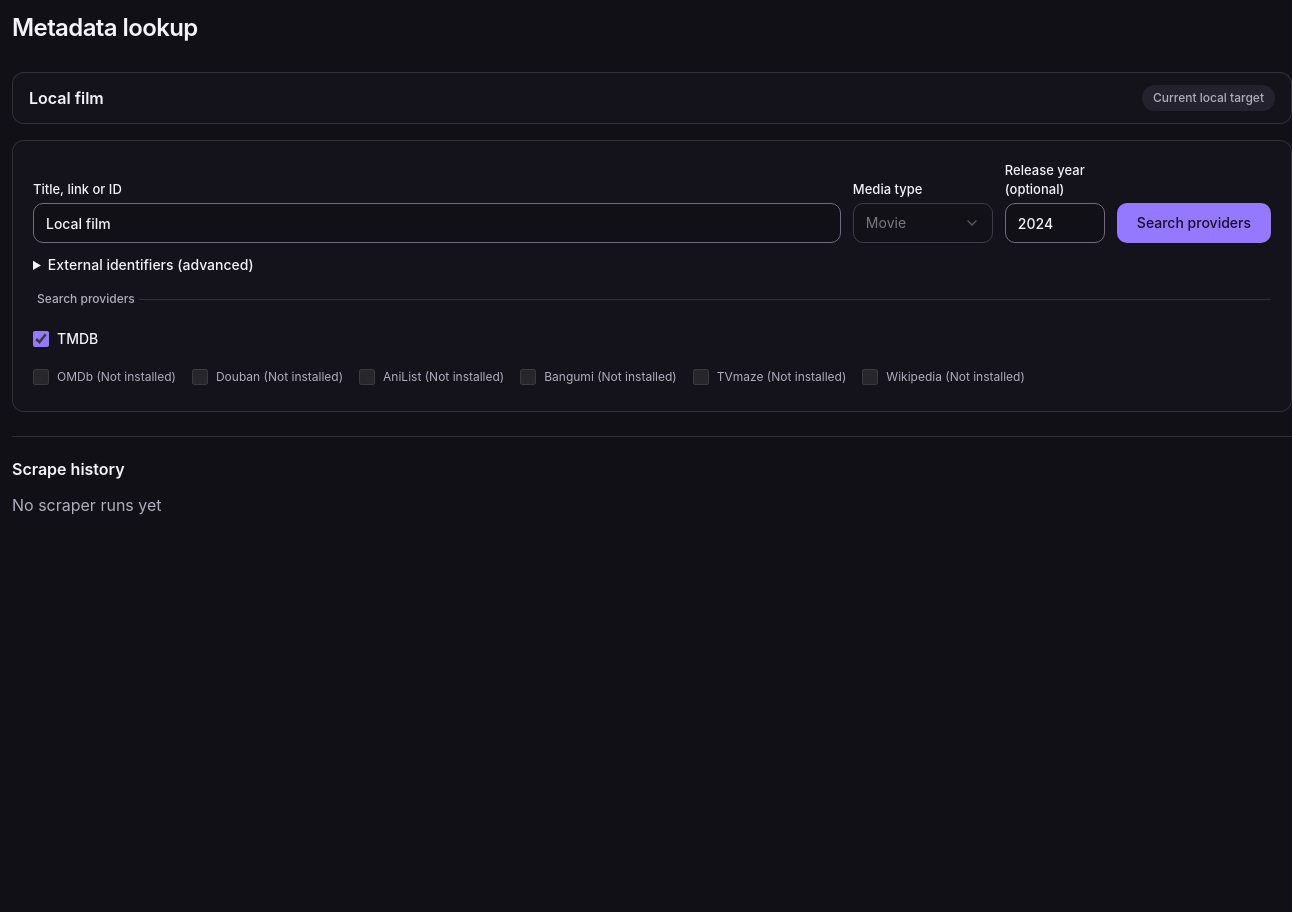
shows candidate identity and original title before any metadata selection or write
The image size is (1292, 912).
Click the button "Search providers".
click(1194, 223)  # box [1117,203,1271,243]
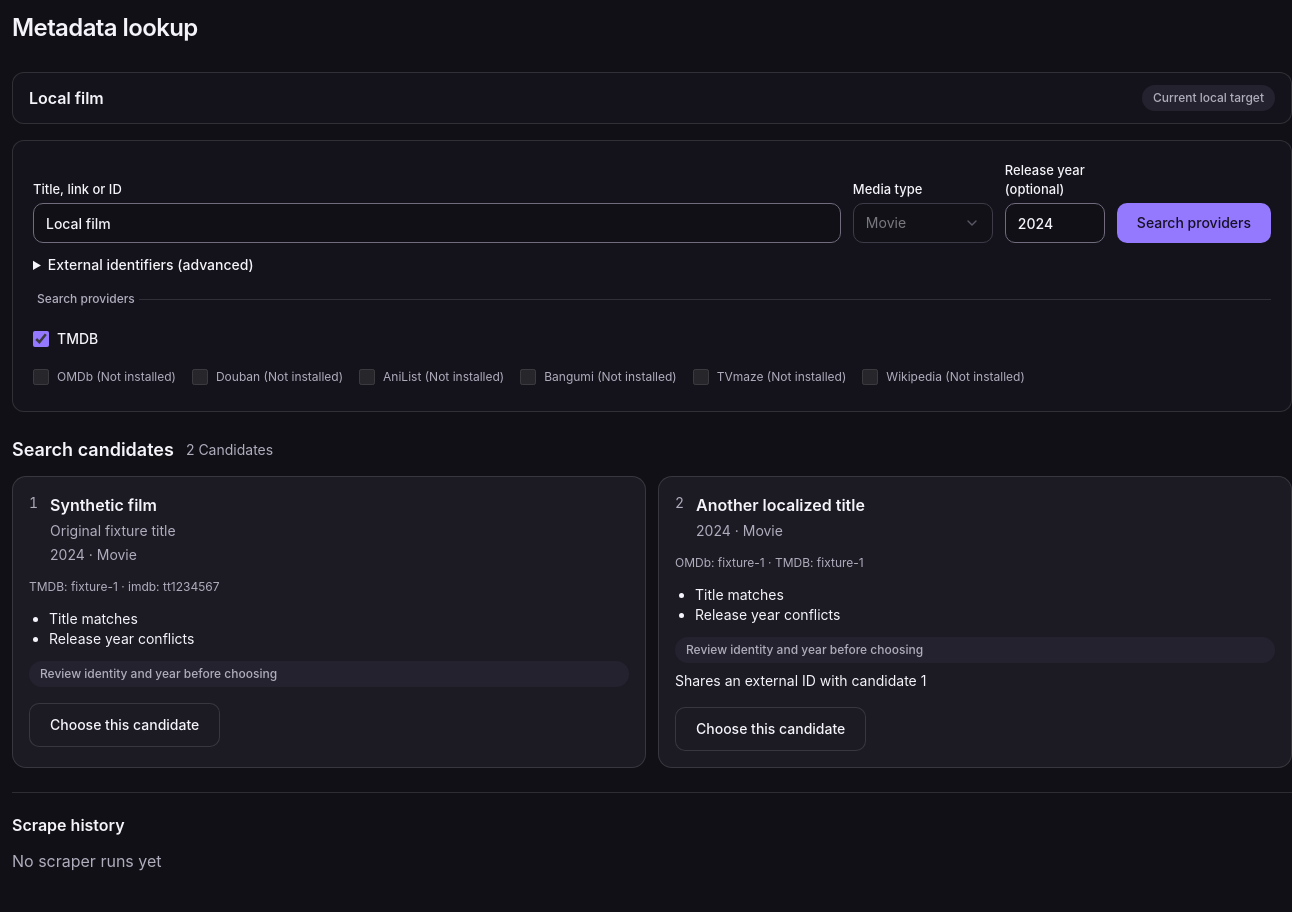
Result: the text "Original fixture title" is shown at [50,521,176,541]
Result: the text "2024 · Movie" below "Original fixture title" is shown at [50,546,137,563]
Result: the text "TMDB: fixture-1 · imdb: tt1234567" is shown at [29,579,220,594]
